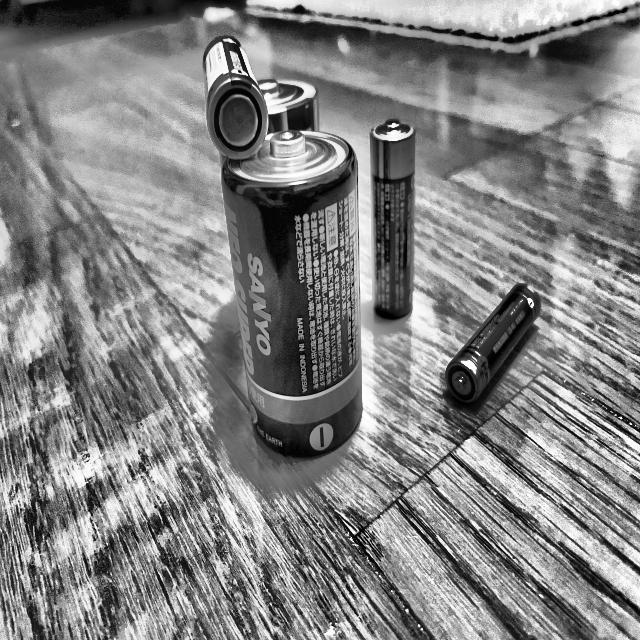drycell: (440, 279, 560, 406), (368, 111, 429, 325)
